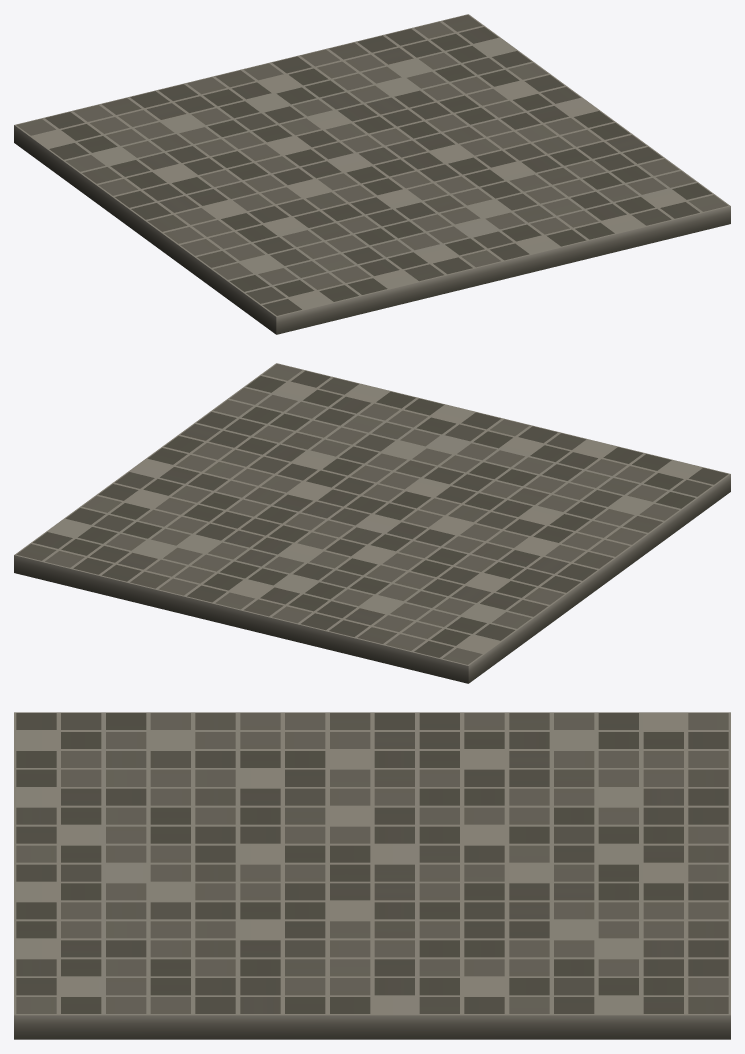
Rendered from Pavement_1R_8x8.fbx.
The picture shows the model from 3 angles, top to bottom: view 1: azimuth 30°, elevation 25°; view 2: azimuth 150°, elevation 25°; view 3: azimuth 270°, elevation 25°; orthographic projection. The views are drawn at different scales.
Visible parts, largest first — view 1: Pavement_1R_8x8; view 2: Pavement_1R_8x8; view 3: Pavement_1R_8x8.
Boxes of the visible parts, box(x1,y1,x2,y2) form: Pavement_1R_8x8: box(14, 14, 730, 334); Pavement_1R_8x8: box(14, 363, 730, 683); Pavement_1R_8x8: box(14, 712, 730, 1039).
Size of the model in its own units: 800 by 30.31 by 800.
